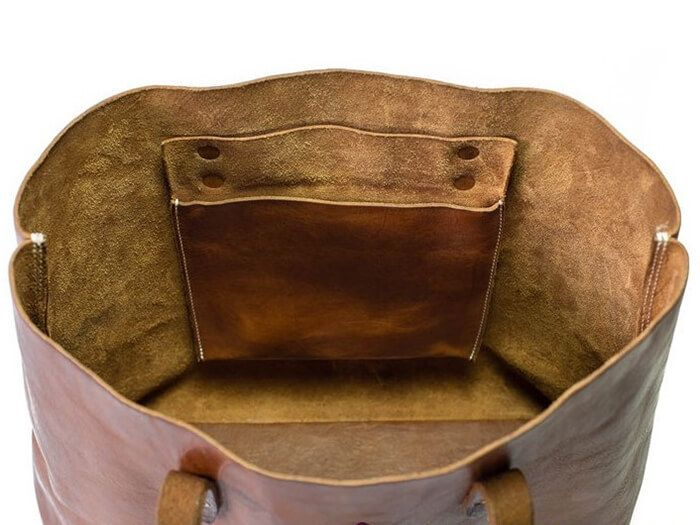cuero: (10, 69, 690, 525)
